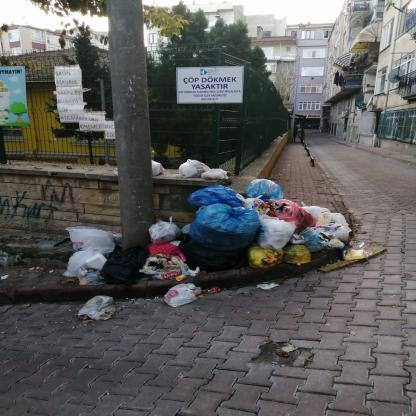Garbage: (172, 182, 370, 289), (58, 222, 123, 332), (188, 207, 260, 262), (146, 210, 198, 280), (307, 211, 358, 254), (145, 155, 227, 175), (62, 224, 120, 252), (67, 244, 110, 280), (188, 185, 256, 207), (266, 219, 313, 249), (228, 242, 280, 269), (168, 284, 214, 308), (265, 196, 310, 218), (274, 237, 310, 264), (81, 294, 110, 323), (251, 178, 291, 192)
